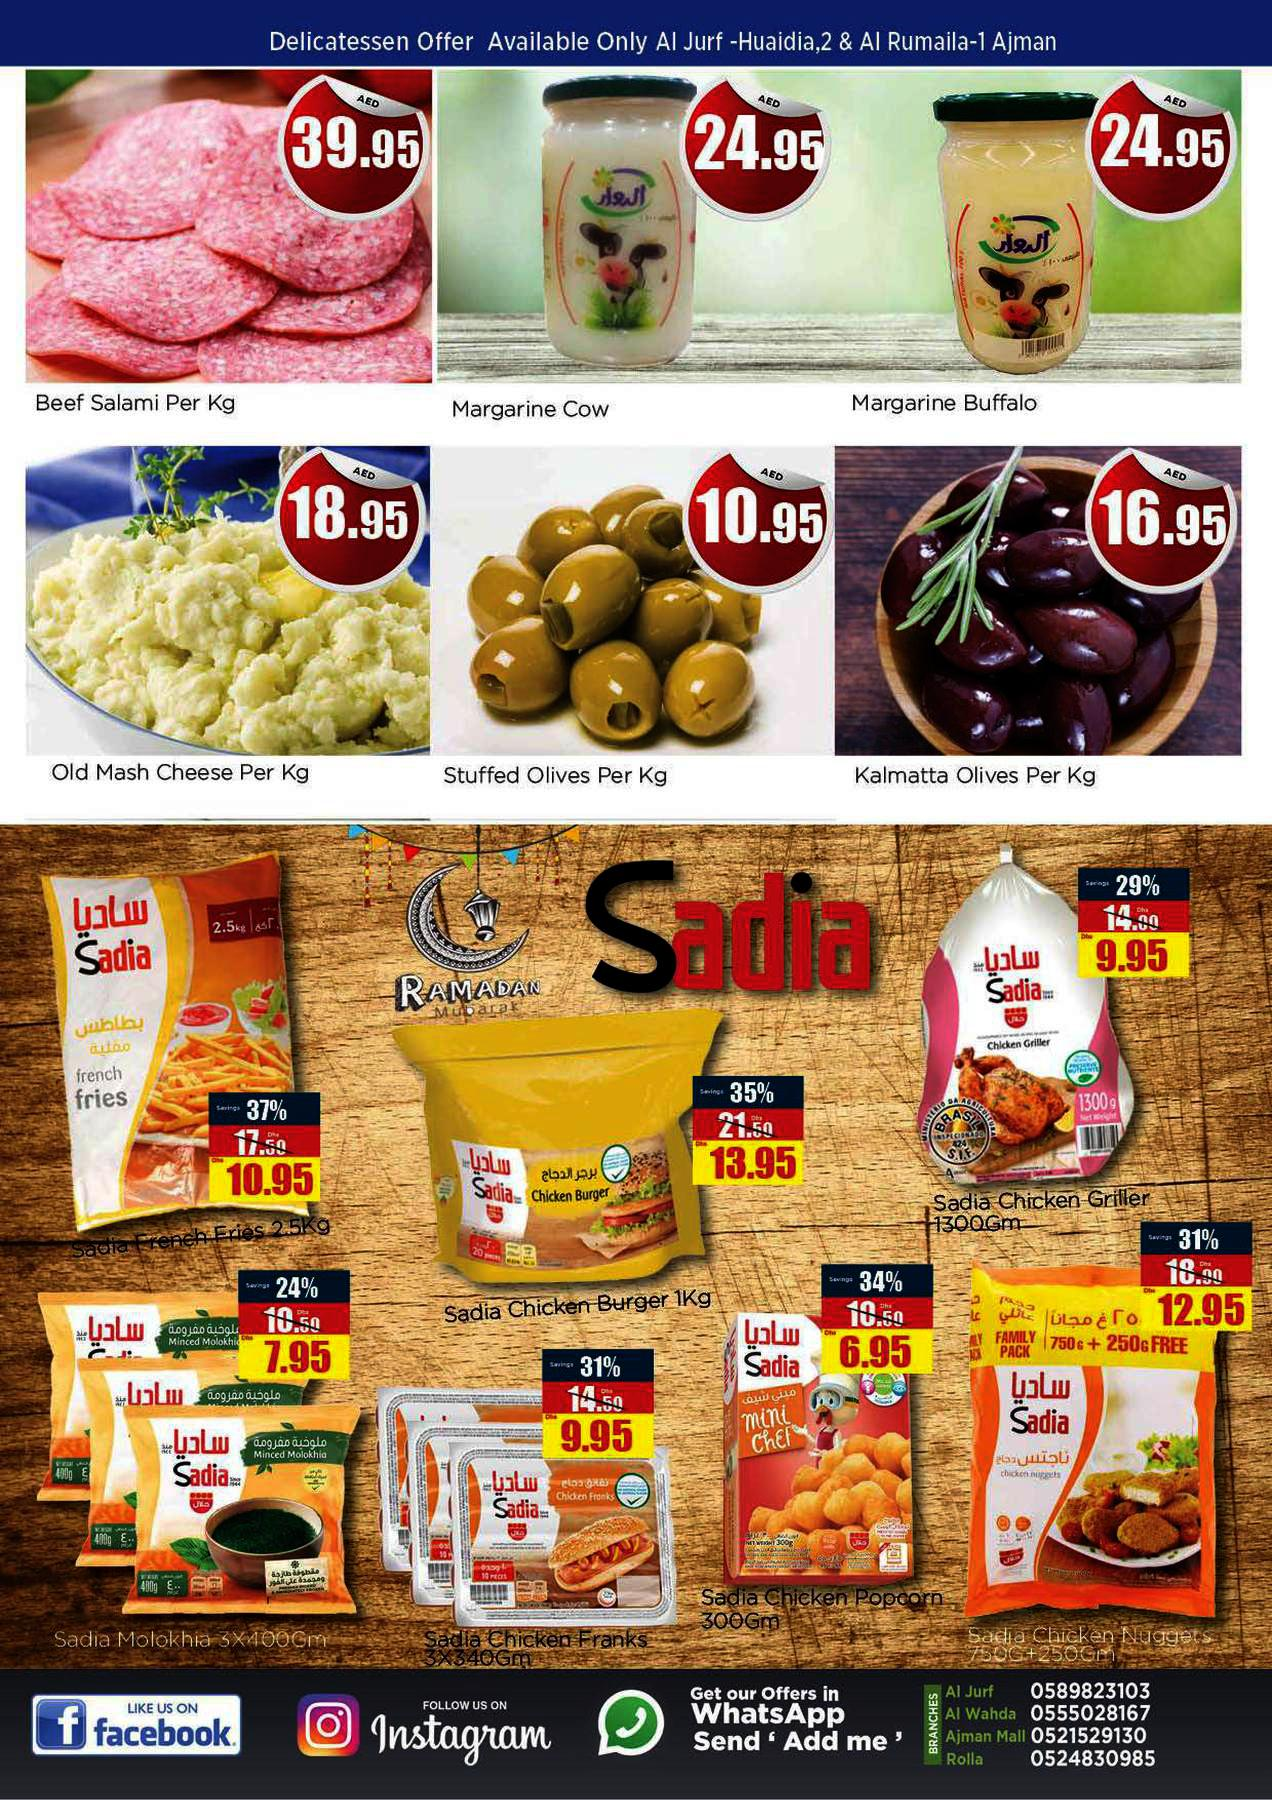text: (690, 1576, 950, 1640), (63, 1207, 354, 1265), (39, 1618, 347, 1667), (957, 1617, 1227, 1671), (430, 1283, 721, 1331), (911, 1185, 1156, 1240), (417, 1620, 675, 1671), (41, 757, 332, 794), (435, 758, 679, 797), (842, 758, 1114, 793), (28, 384, 242, 425), (842, 385, 1052, 424), (443, 394, 619, 431)
